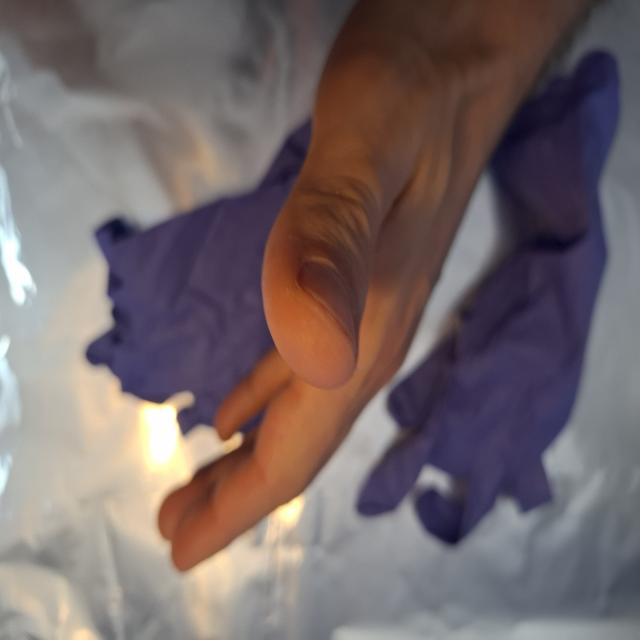glove_off: (152, 2, 568, 577)
